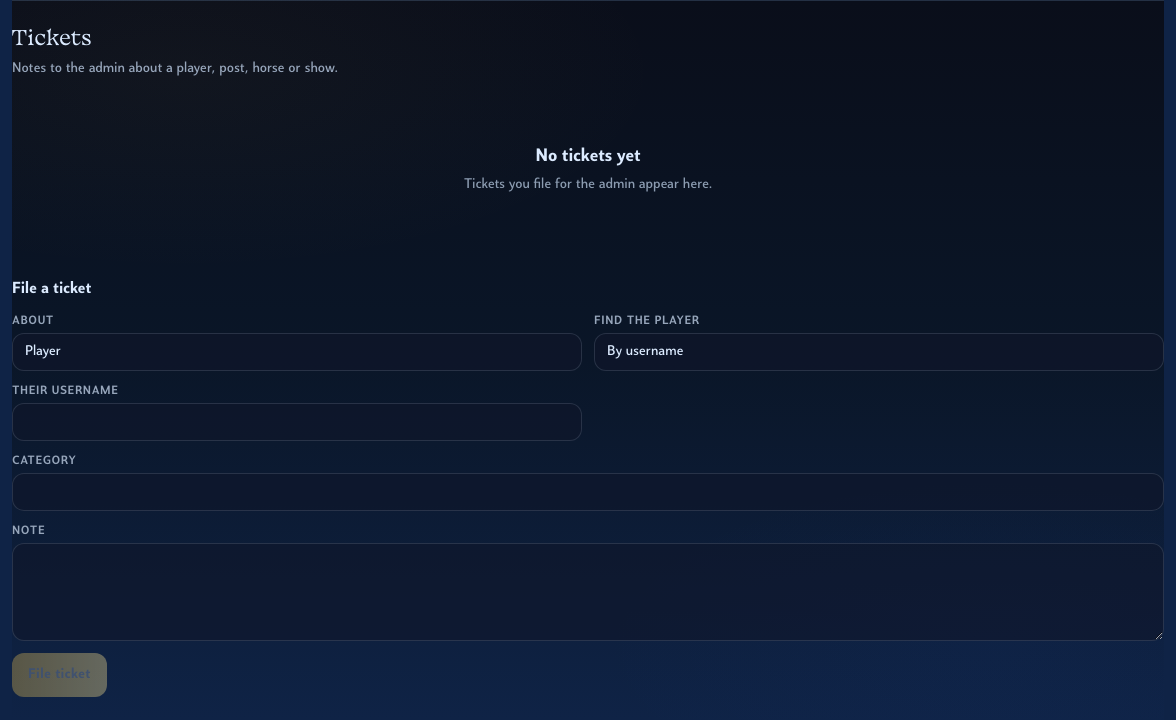
it: StaffTickets: filing safety › clears a settled refusal when the subject is edited
Select "Show" in the dropdown labelled "About": (297, 352) 12,333 -> 582,371
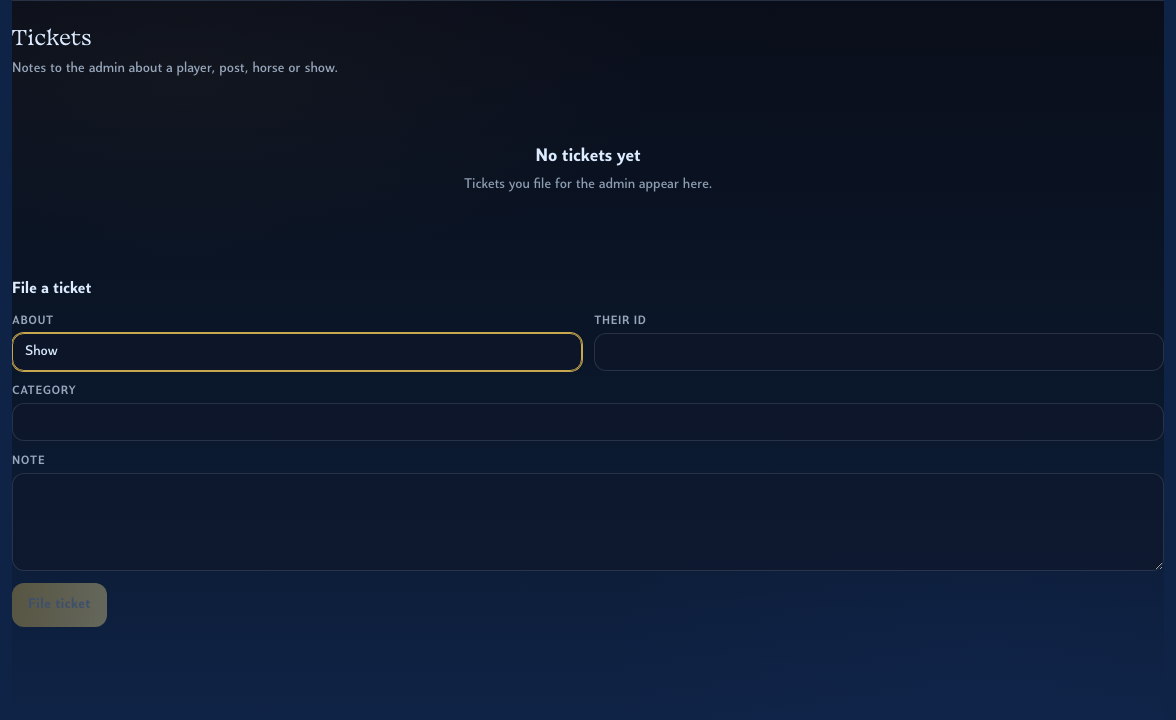
In the field labelled "Their ID": (879, 352) 594,333 -> 1164,371, type "9"
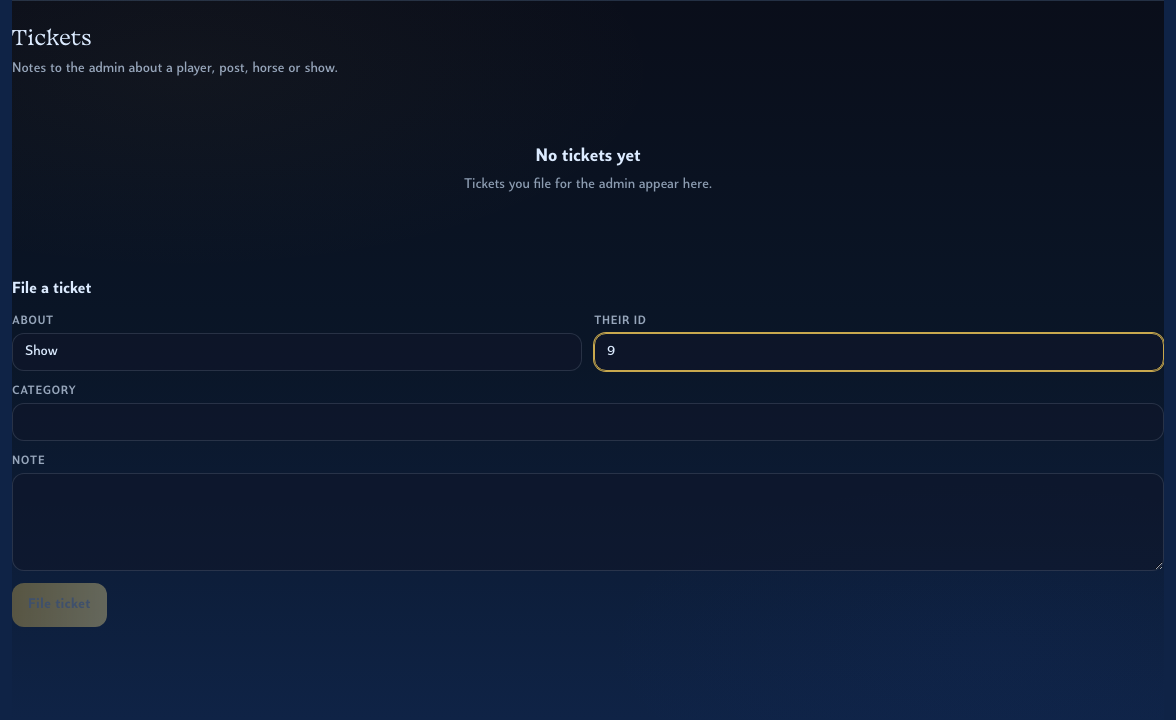
In the field labelled "Category": (588, 422) 12,403 -> 1164,441, type "Rigged"
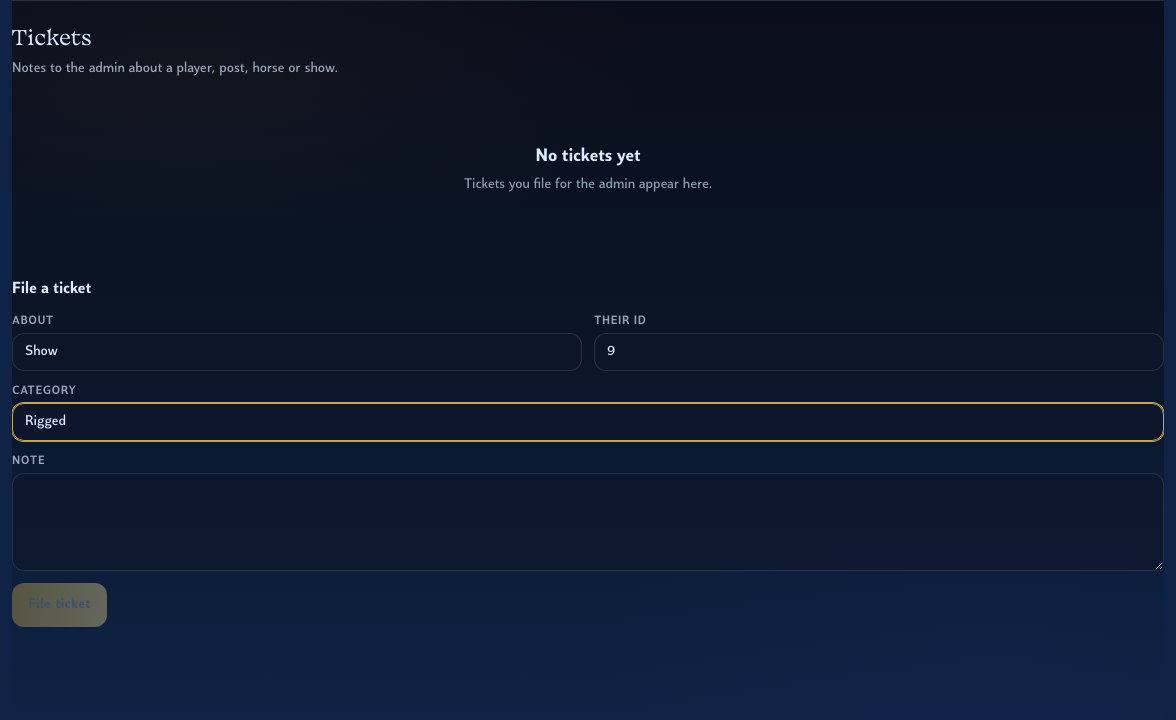
In the text box labelled "Note": (588, 522) 12,473 -> 1164,571, type "Judged by the host"
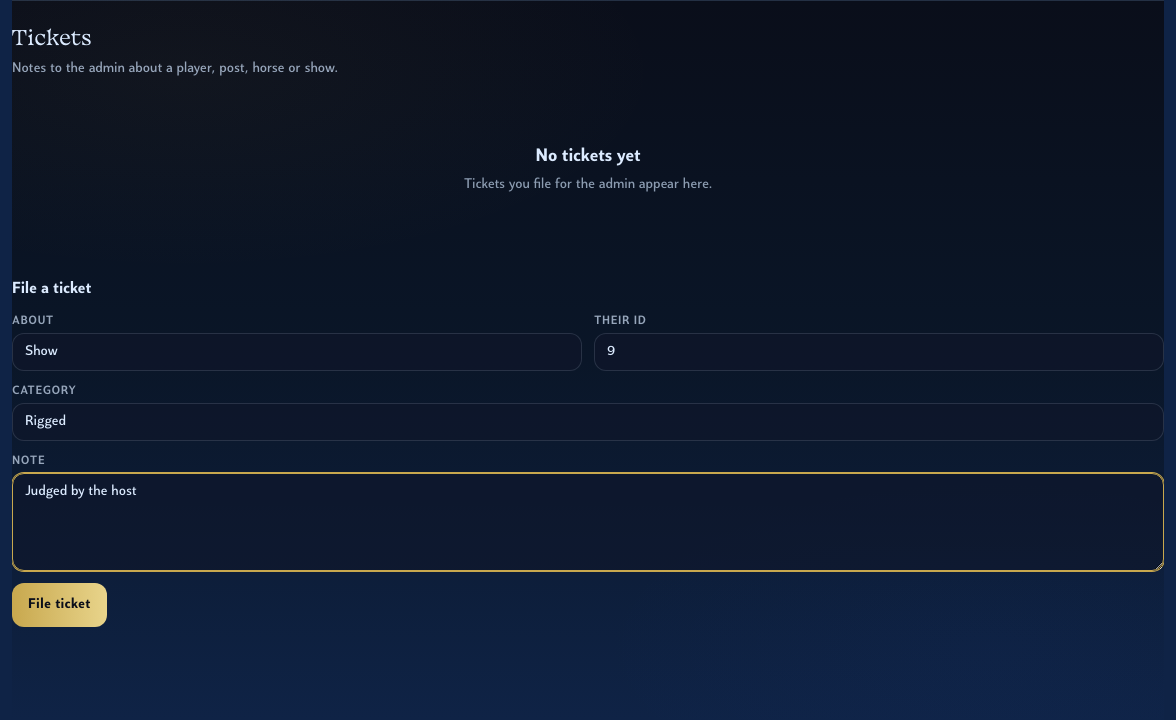
Click the button "File ticket": (59, 605) 12,583 -> 107,627
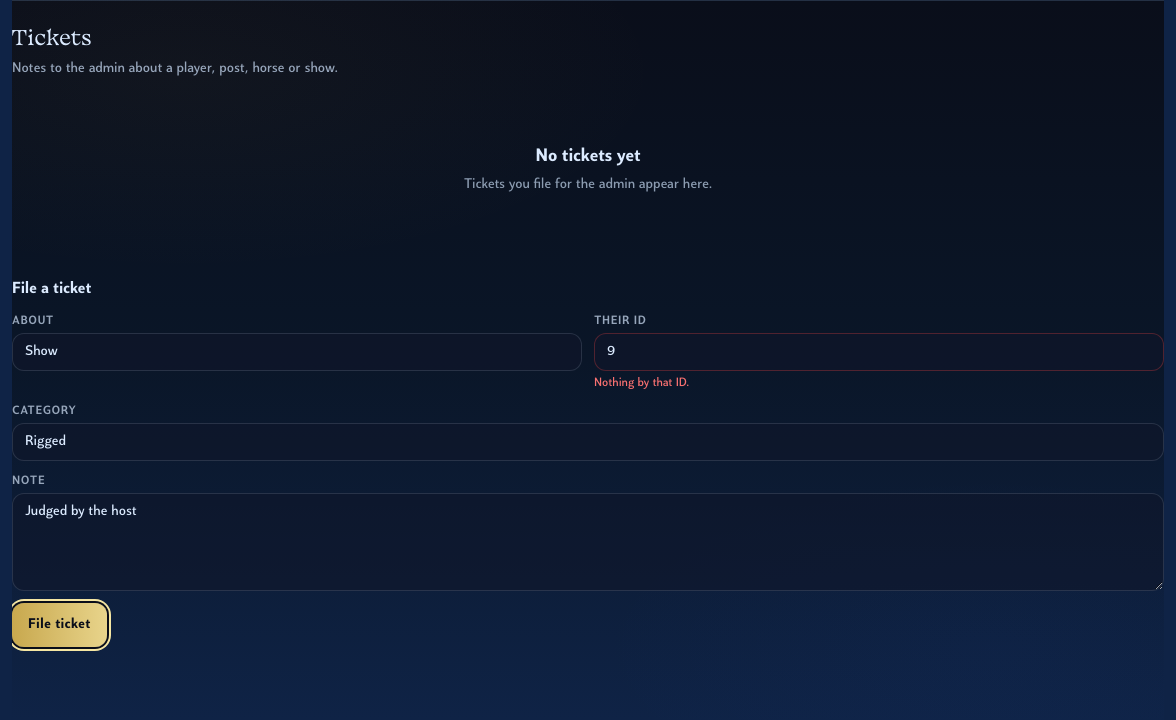
Result: the text "Nothing by that ID." is shown at 594,377 -> 689,389
In the field labelled "Their ID": (879, 352) 594,333 -> 1164,371, type "1"
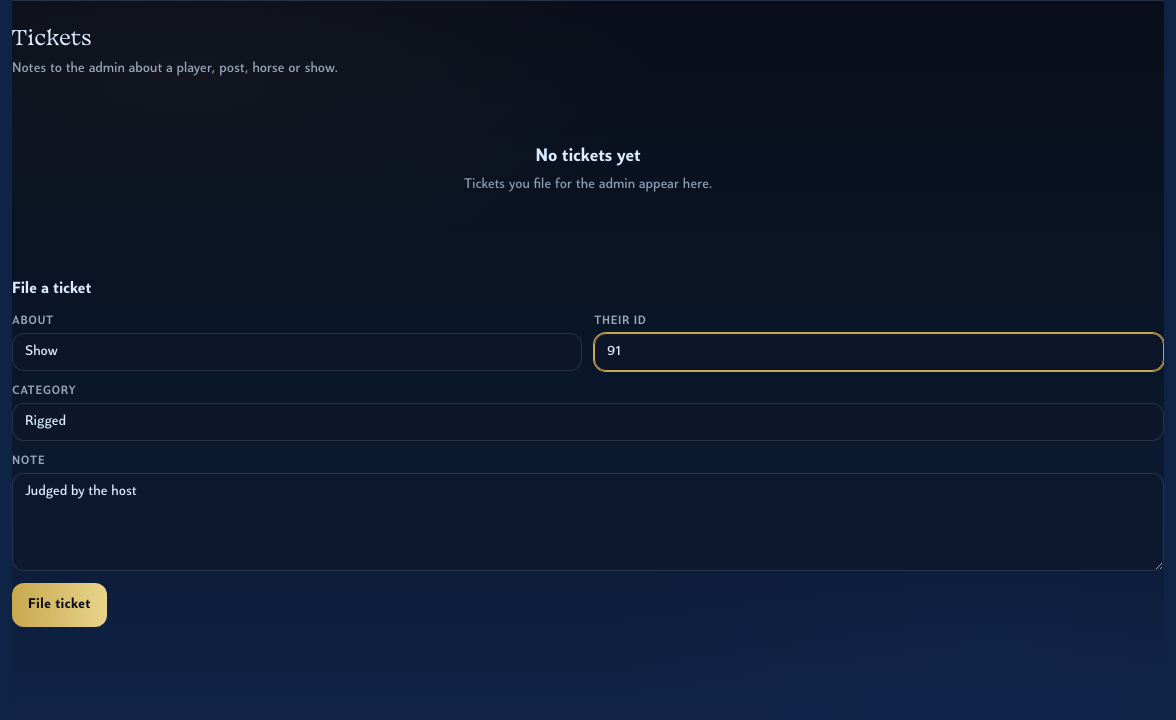
Result: the text "Nothing by that ID." is gone
Result: the field labelled "Their ID" holds "91" at 594,333 -> 1164,371
